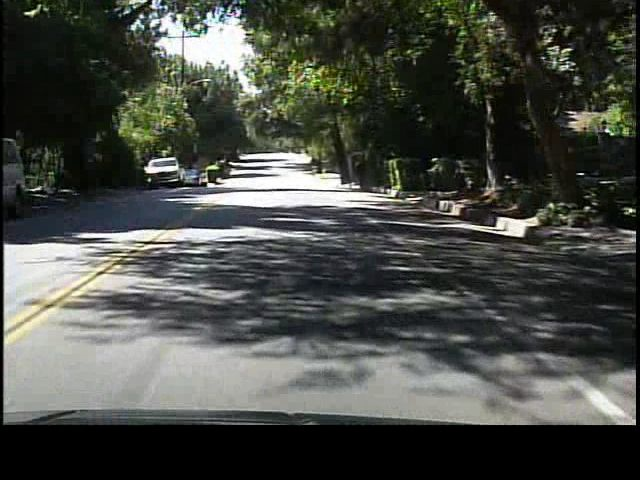person: (354, 154, 371, 193)
